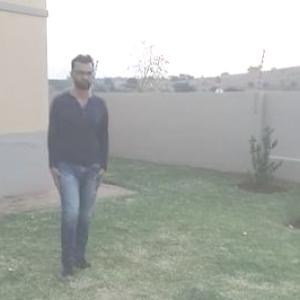follow: (44, 55, 109, 248)
